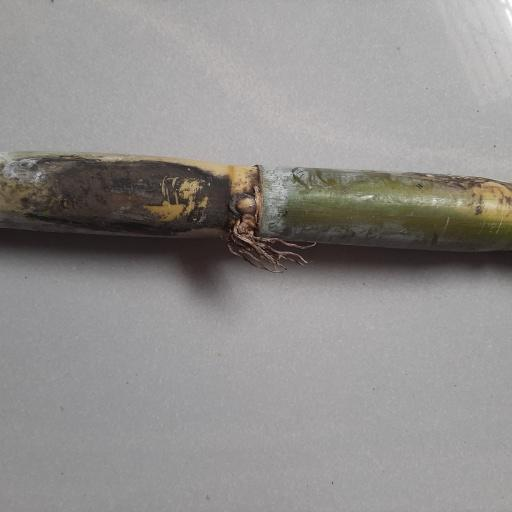Bud: (232, 193, 257, 216)
